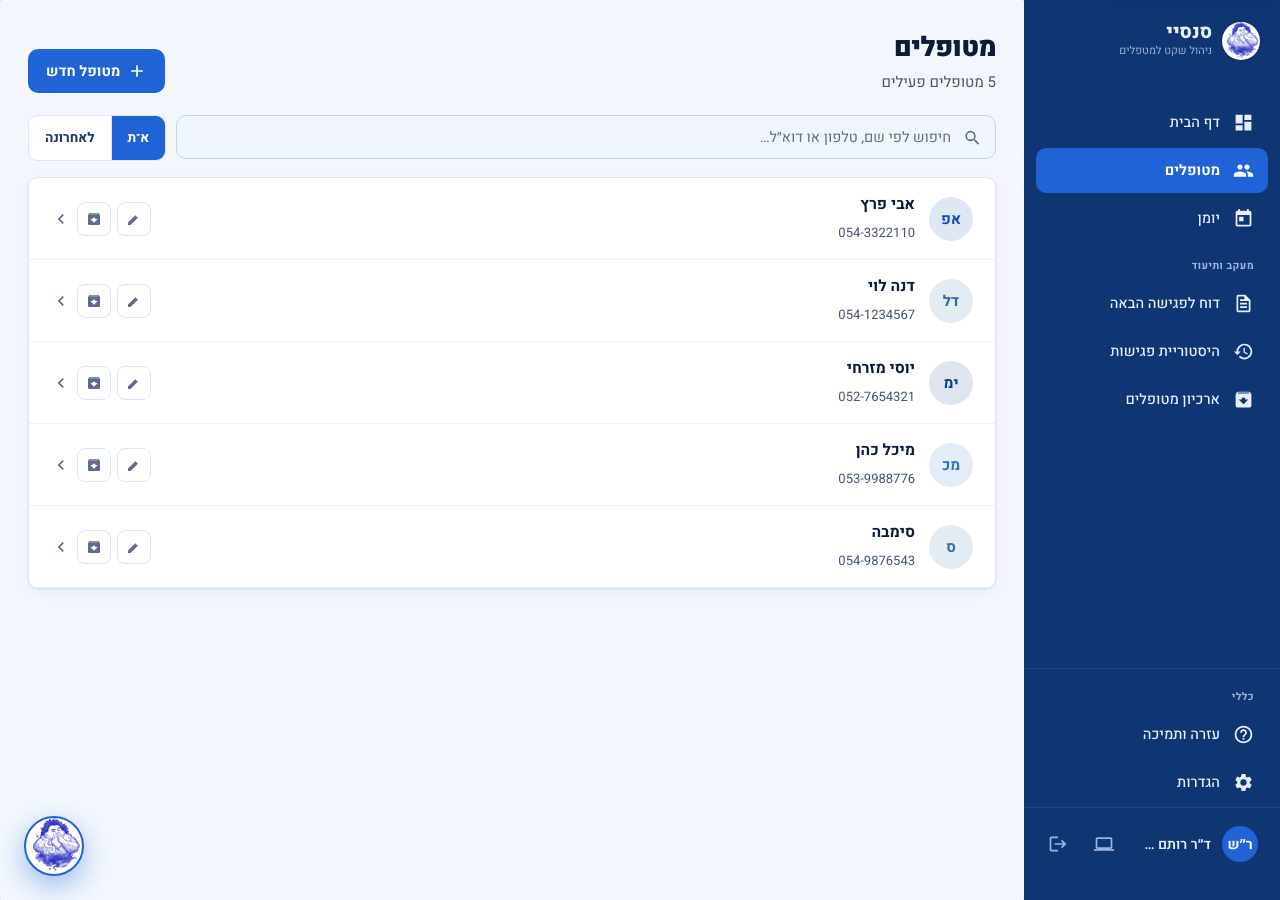
Scenario: delete patient — confirmation, removal, and undo › offers an undo that restores the deleted patient
Click the 1st button named "העברה לארכיון": (94, 218) [77,202,111,236]
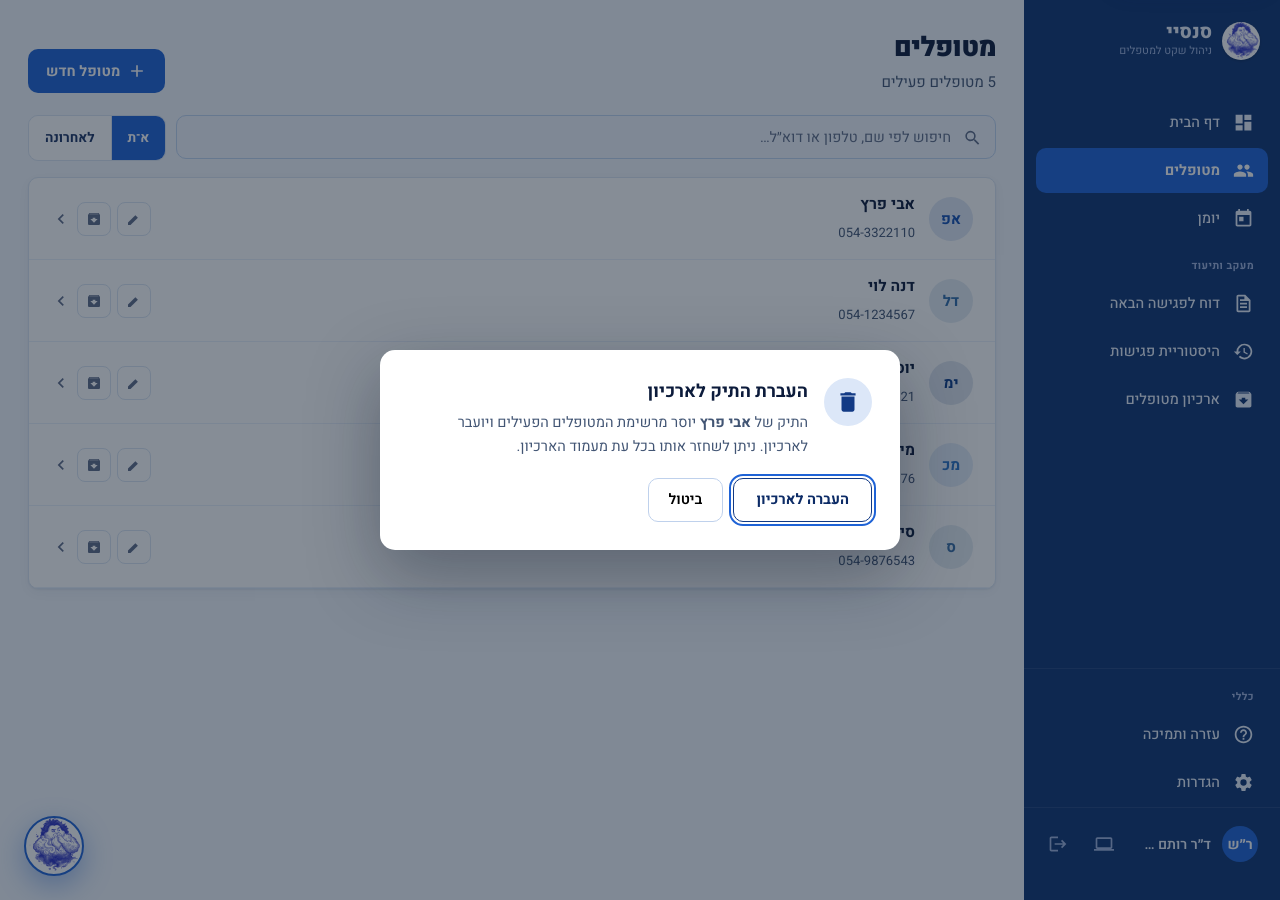
Expected: the dialog is shown, [380,350,900,550]
Click the button "העברה לארכיון": (803, 500) [733,478,872,522]
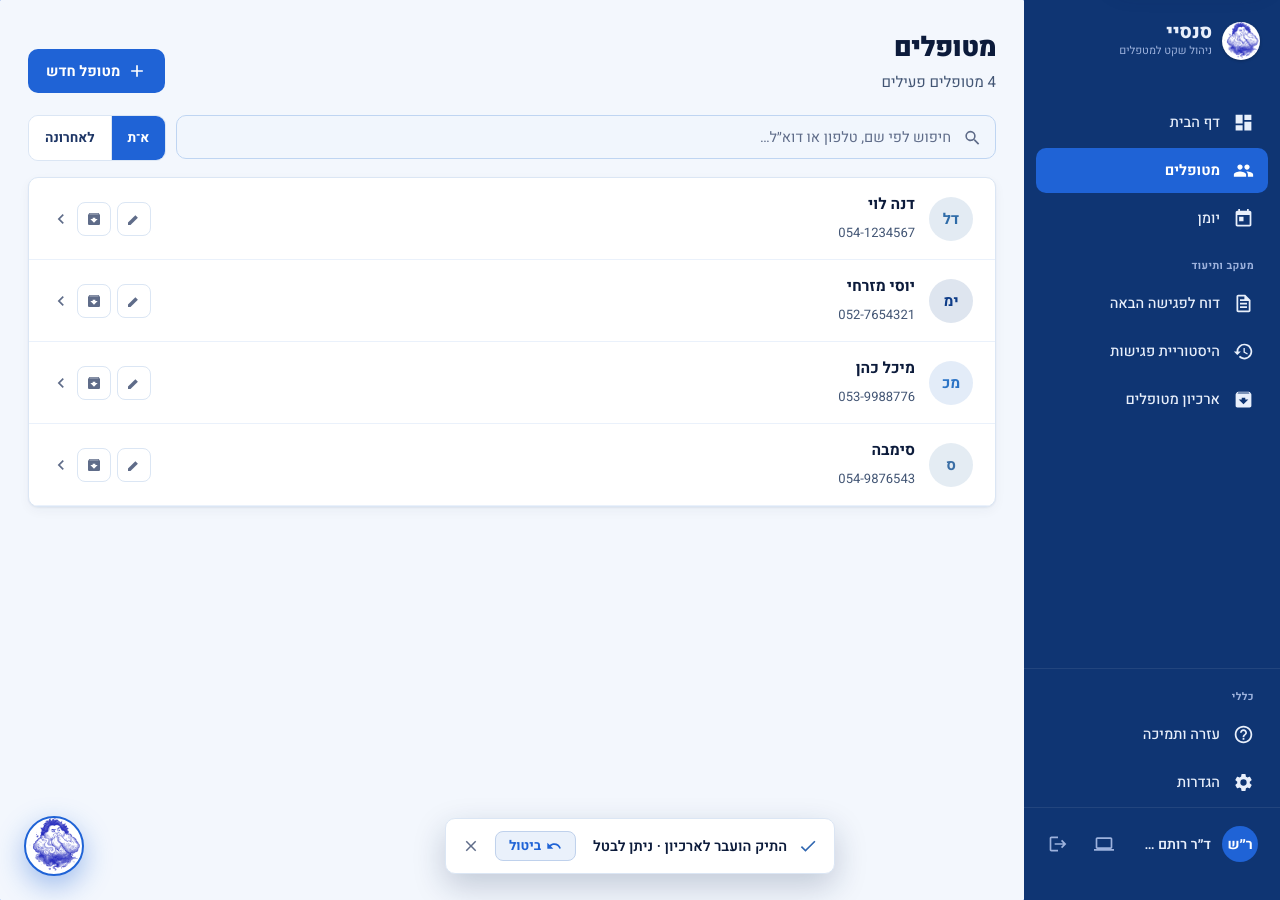
Expected: the button "ביטול" is shown
Expected: the button with id "main-content" no longer shows "אבי פרץ"
Click the button "ביטול": (536, 846) [495,831,576,861]
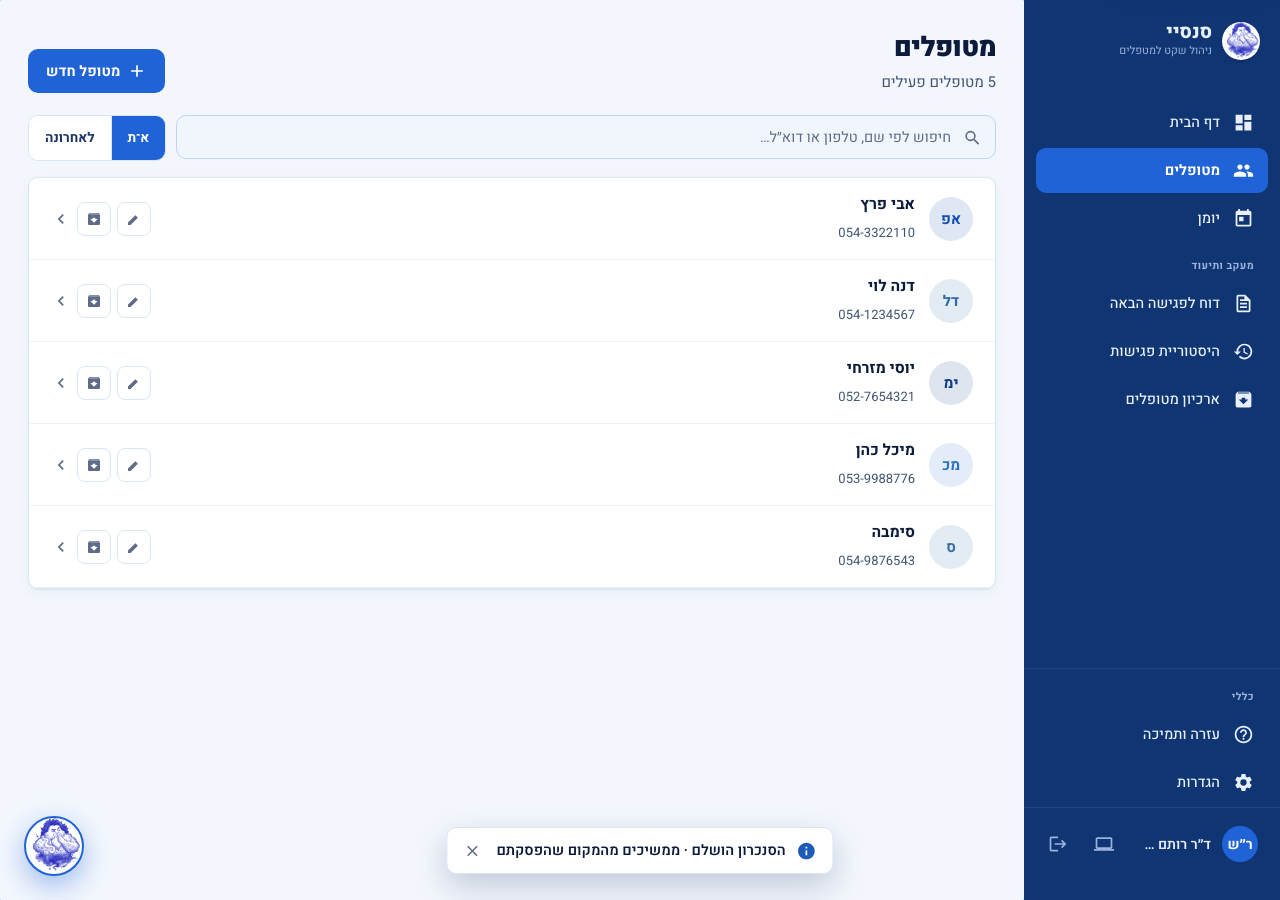
Expected: the element with id "main-content" shows "אבי פרץ", [165,193,973,244]
